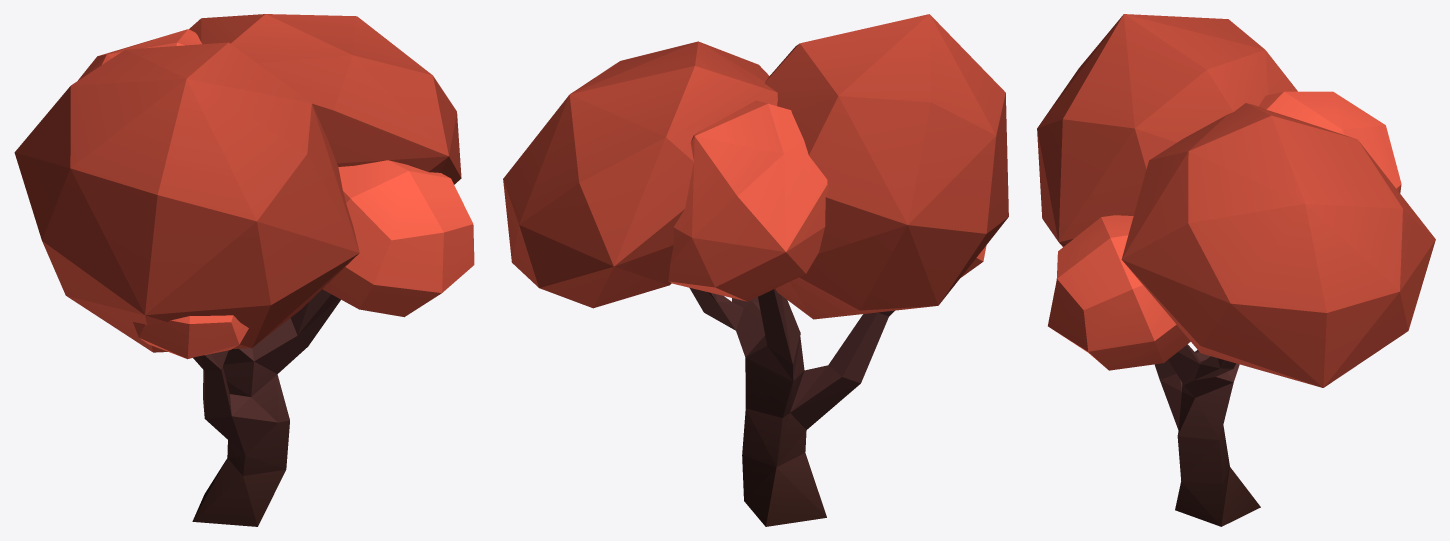
File: RedTree1.fbx
The picture shows the model from 3 angles, left to right: view 1: azimuth 30°, elevation 25°; view 2: azimuth 150°, elevation 25°; view 3: azimuth 270°, elevation 25°; orthographic projection. The views are drawn at different scales.
Parts seen in each view (by area): view 1: RedTree1; view 2: RedTree1; view 3: RedTree1.
Part boxes in pixels (x1=…): RedTree1: x1=14, y1=14, x2=474, y2=526; RedTree1: x1=503, y1=14, x2=1008, y2=526; RedTree1: x1=1037, y1=14, x2=1435, y2=526.
Bounding box in the file's own units: 484 × 530 × 424.
